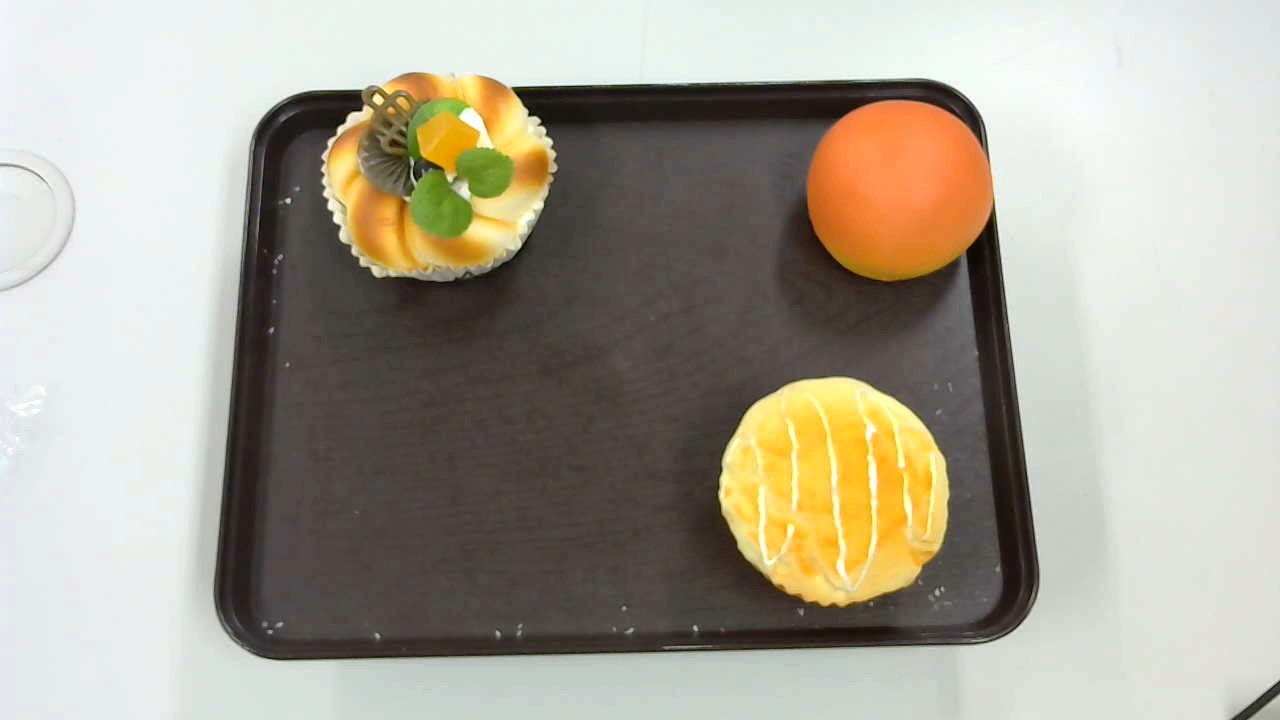bun: (806, 100, 995, 281)
cupcake: (717, 376, 951, 607)
fruit tart: (321, 73, 559, 282)
